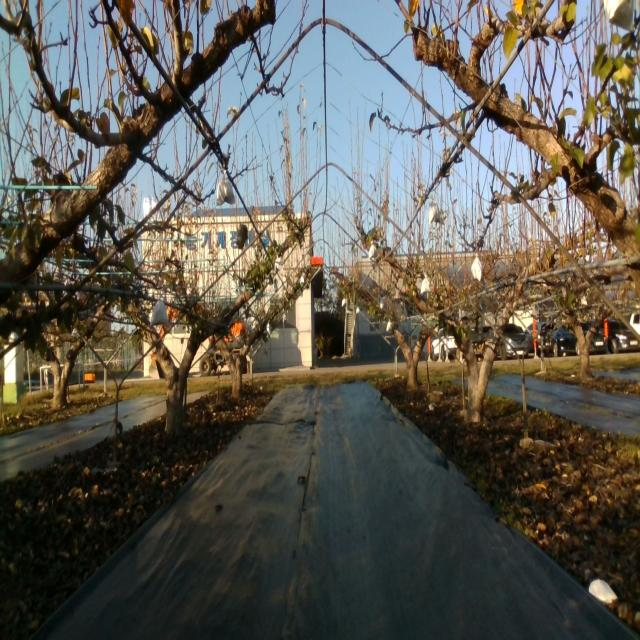pearbags: (215, 170, 236, 205), (149, 298, 171, 330), (470, 252, 482, 282), (428, 198, 441, 223), (420, 274, 430, 295)
